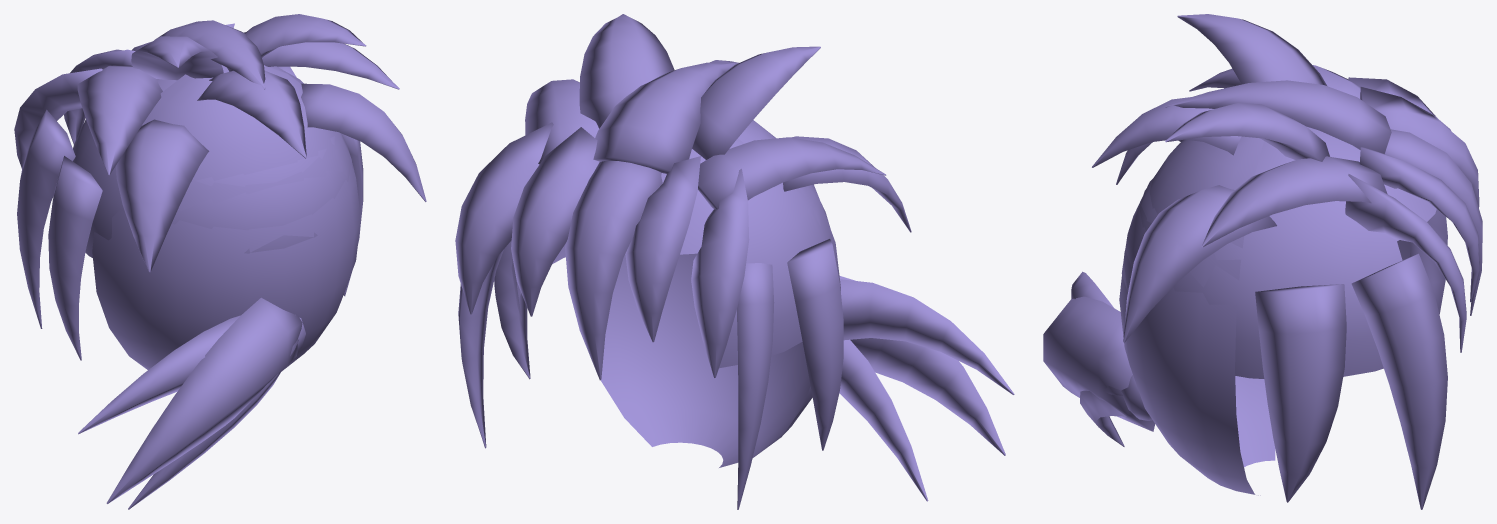
The model's file is velkist_hair.fbx.
The picture shows the model from 3 angles, left to right: view 1: azimuth 30°, elevation 25°; view 2: azimuth 150°, elevation 25°; view 3: azimuth 270°, elevation 25°; orthographic projection. The views are drawn at different scales.
Visible parts, largest first — view 1: VelkistHair; view 2: VelkistHair; view 3: VelkistHair.
Part boxes in pixels (x1,y1,x2,y2): VelkistHair: (14,14,426,509); VelkistHair: (455,14,1014,509); VelkistHair: (1043,14,1482,509).
Bounding box in the file's own units: 203 × 216 × 180.
